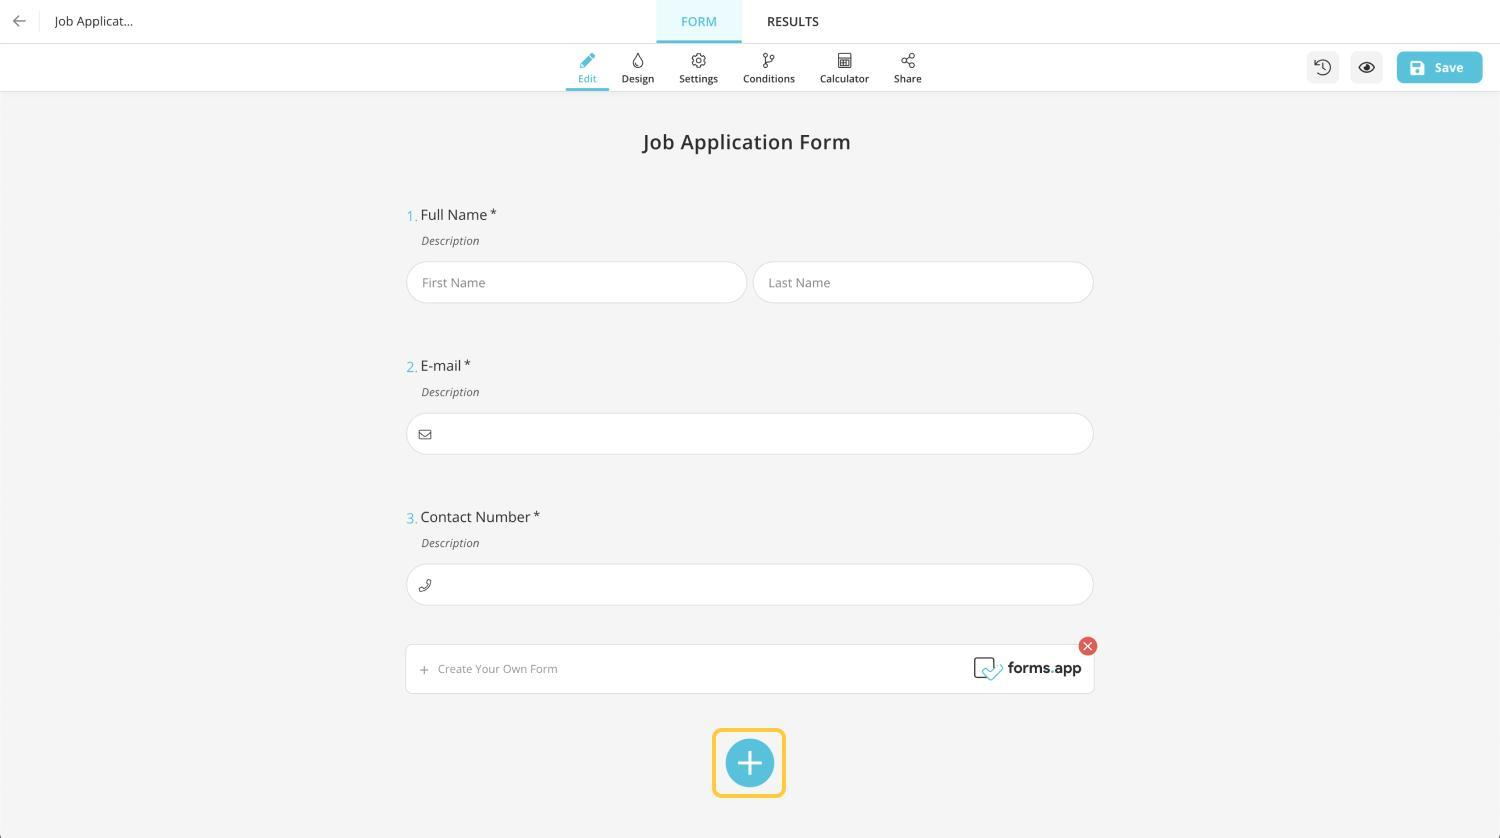button: (658, 1, 743, 44), (1396, 51, 1485, 85), (567, 44, 611, 92)
icon: (726, 736, 777, 791), (1305, 53, 1341, 85), (1351, 53, 1383, 83), (624, 47, 653, 74), (893, 48, 924, 73), (829, 49, 859, 73), (686, 49, 711, 73), (760, 51, 778, 73)
input: (406, 642, 1097, 694), (408, 562, 1095, 610), (407, 412, 1097, 458), (752, 255, 1098, 311), (404, 258, 751, 307)
label: (633, 135, 856, 155), (403, 505, 546, 533), (754, 8, 833, 38), (403, 353, 478, 381), (406, 206, 501, 228), (740, 73, 799, 89), (677, 73, 724, 87), (818, 75, 872, 86), (618, 74, 660, 87), (893, 73, 928, 87)
